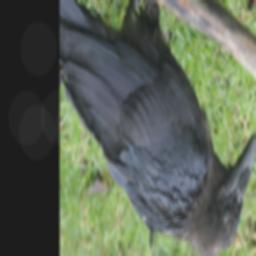Crow: (60, 0, 256, 256)
